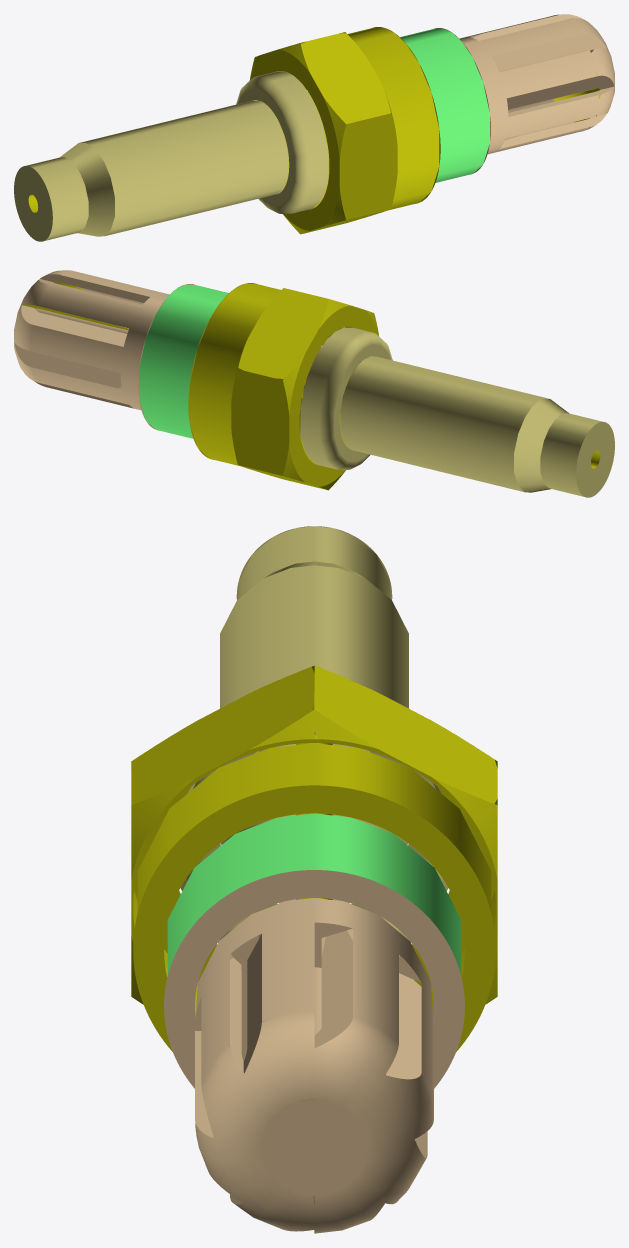
File: oxygen_sensor.fbx
3 views of the same model, one above another, from view 1: azimuth 30°, elevation 25°; view 2: azimuth 150°, elevation 25°; view 3: azimuth 270°, elevation 25° (orthographic). The views are drawn at different scales.
Parts seen in each view (by area): view 1: lambda_probe_igs; view 2: lambda_probe_igs; view 3: lambda_probe_igs.
Boxes of the visible parts, box(x1,y1,x2,y2) form: lambda_probe_igs: box(14, 14, 614, 241); lambda_probe_igs: box(14, 270, 614, 497); lambda_probe_igs: box(131, 526, 497, 1233).
Bounding box in the file's own units: 3.07 × 0.9961 × 0.8631.
